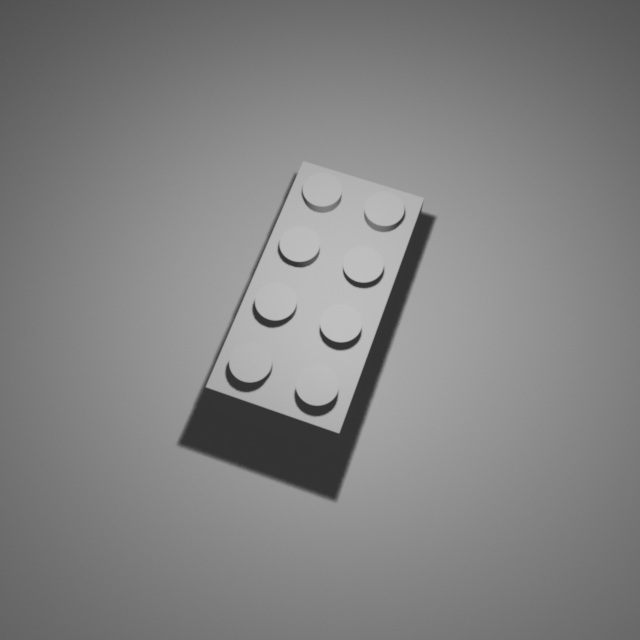lego_2x4: (204, 154, 426, 455)
